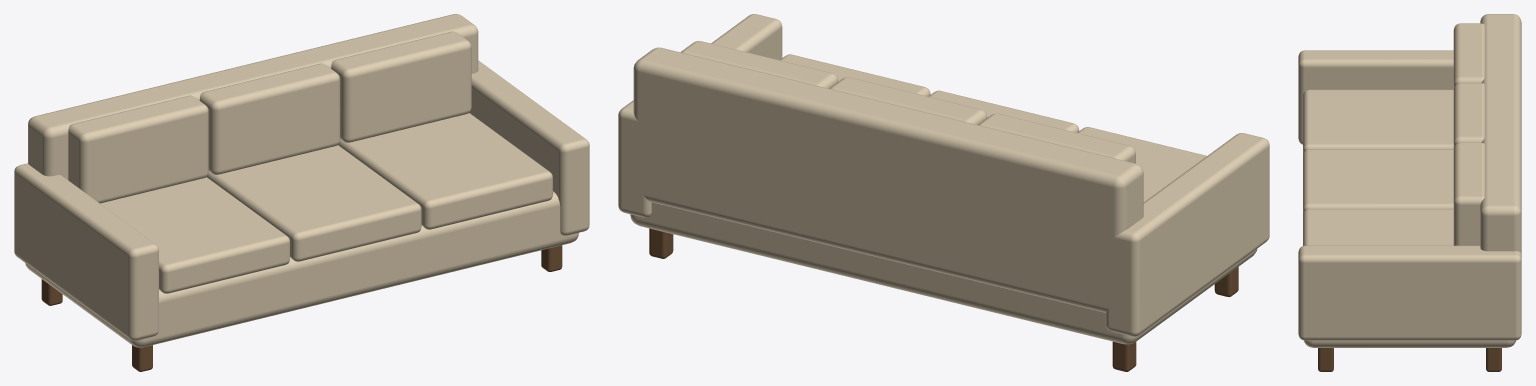
File: cloud-sofa.glb
3 renders of one model, left to right at view 1: azimuth 30°, elevation 25°; view 2: azimuth 150°, elevation 25°; view 3: azimuth 270°, elevation 25°, orthographic. The views are drawn at different scales.
Visible parts, largest first — view 1: Seat cushion (×3), Back cushion (×3), Arm (×2), Base, Back, Leg (×2); view 2: Back, Arm (×2), Base, Back cushion (×3), Seat cushion (×3), Leg (×2); view 3: Arm (×2), Seat cushion (×3), Back, Back cushion (×3), Base, Leg (×2).
Part boxes in pixels (x1,y1,x2,y2): Seat cushion (×3): (100,113,552,293); Back cushion (×3): (68,31,471,203); Arm (×2): (14,60,589,340); Base: (25,191,578,347); Back: (28,14,478,179); Leg (×2): (132,245,562,371); Back: (633,47,1143,312); Arm (×2): (618,14,1269,336); Base: (630,202,1257,344); Back cushion (×3): (681,41,1135,163); Seat cushion (×3): (780,54,1206,201); Leg (×2): (649,228,1136,371); Arm (×2): (1298,50,1521,340); Seat cushion (×3): (1303,89,1453,245); Back: (1480,14,1521,253); Back cushion (×3): (1453,23,1484,245); Base: (1304,340,1515,347); Leg (×2): (1318,348,1501,371).
Size of the model in its own units: 2.15 by 0.8 by 0.97.
